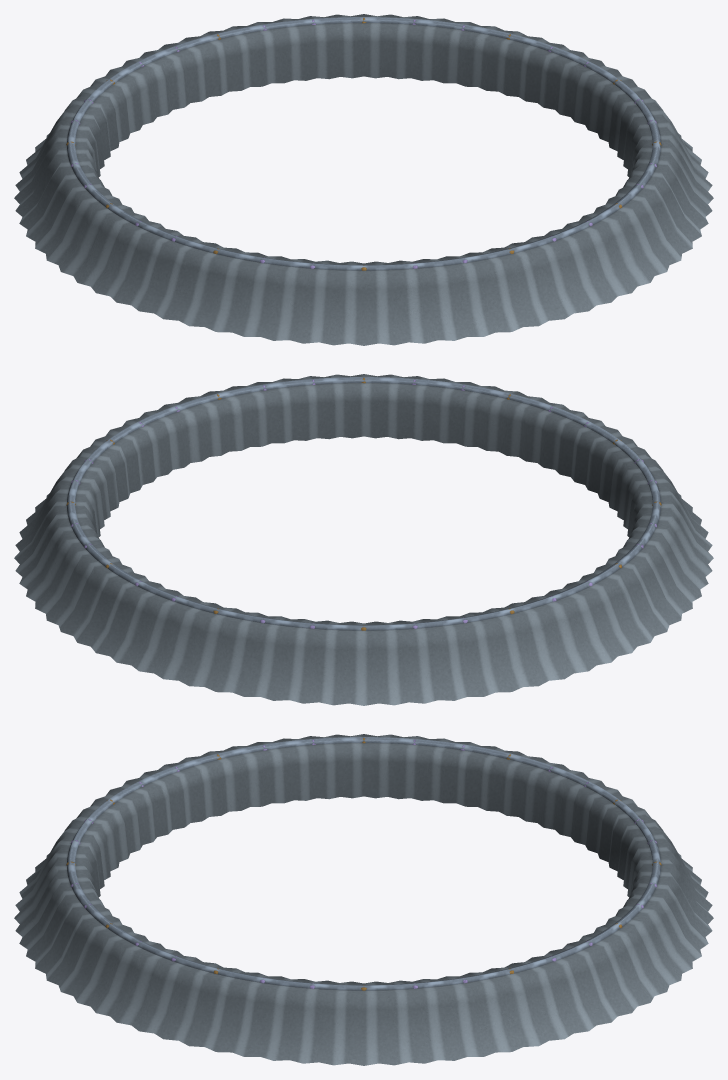
Rendered from cradle_ring.glb.
The picture shows the model from 3 angles, top to bottom: view 1: azimuth 30°, elevation 25°; view 2: azimuth 150°, elevation 25°; view 3: azimuth 270°, elevation 25°; orthographic projection.
Parts seen in each view (by area): view 1: CradleRing; view 2: CradleRing; view 3: CradleRing.
Boxes of the visible parts, left/top/right/bottom form: CradleRing: left=14, top=14, right=713, bottom=345; CradleRing: left=14, top=374, right=713, bottom=705; CradleRing: left=14, top=734, right=713, bottom=1065.
Size of the model in its own units: 33.62 by 3 by 33.62.
Materials: 4 (4 with a texture image).
